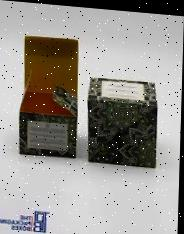cube: (85, 75, 157, 167)
